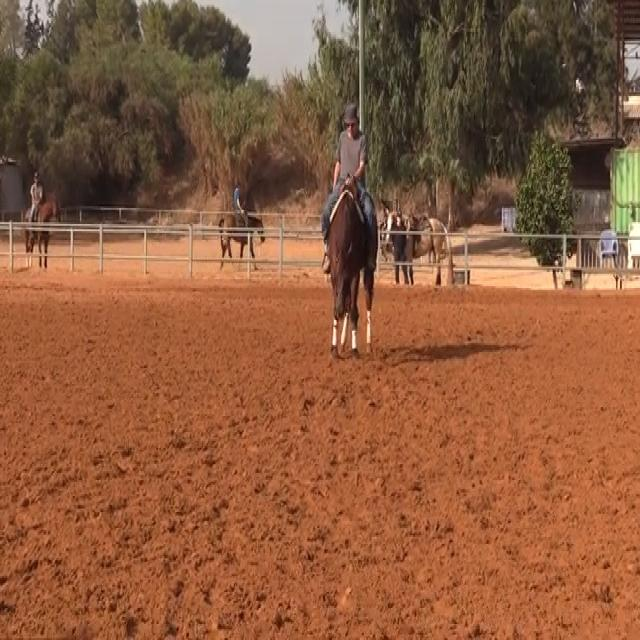horse: (323, 176, 379, 361)
